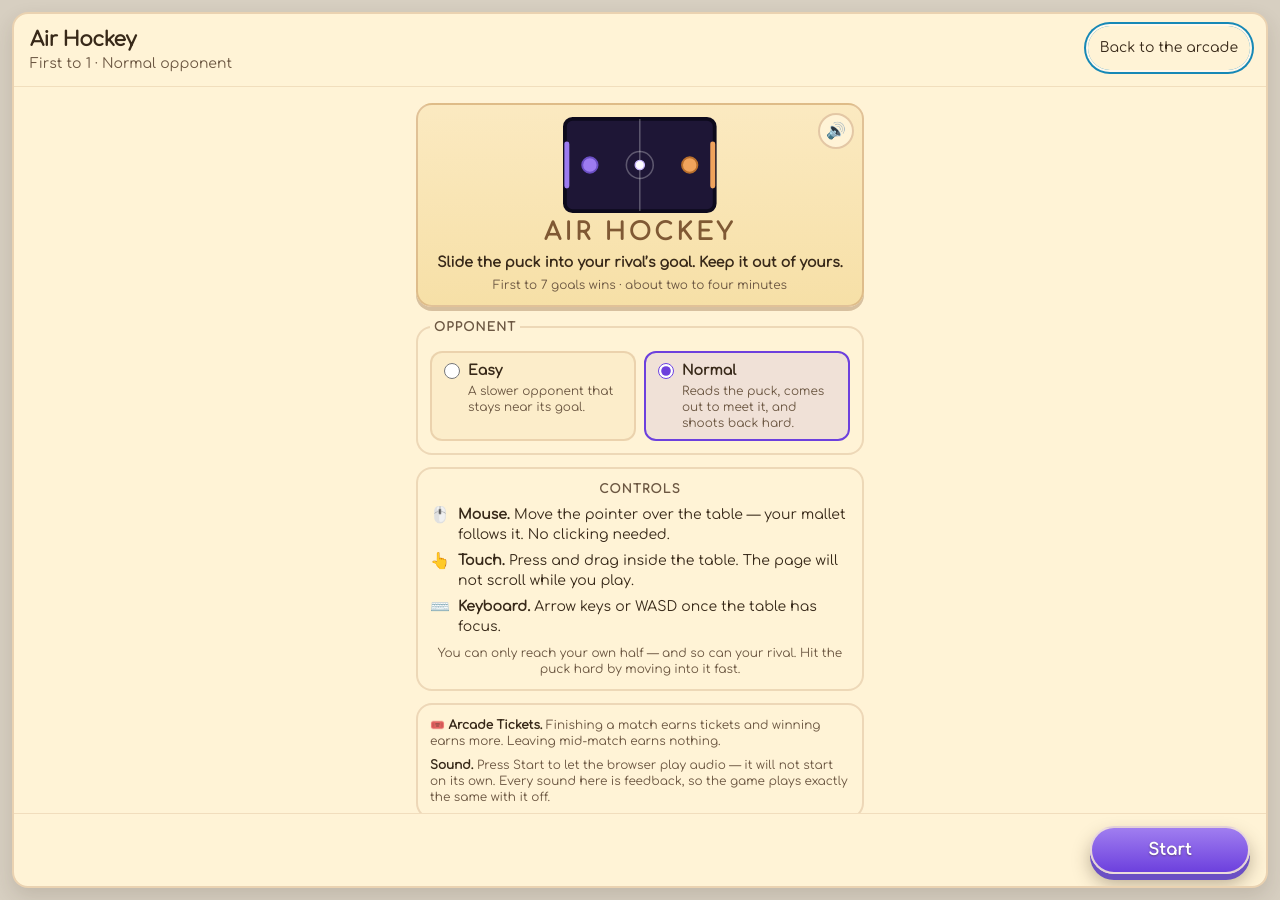
Test case: before the match › lets the difficulty be changed before starting
This screenshot has width=1280, height=900.
Click the radio button labelled "Easy A slower opponent that stays near its goal.". click: (452, 371)
box: [444,363,460,379]
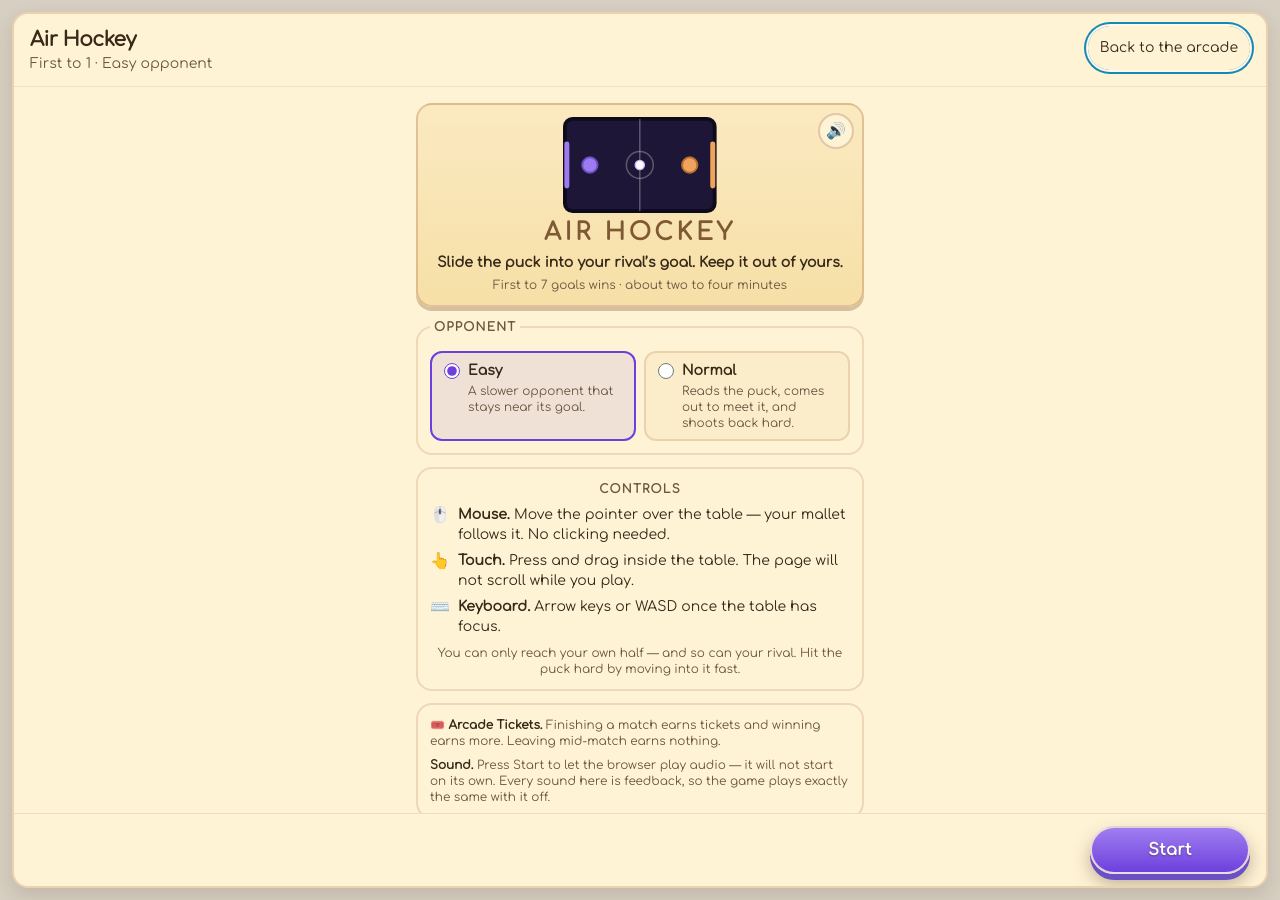
expect the radio button labelled "Easy A slower opponent that stays near its goal." is checked: met, box [444,363,460,379]
expect the text "First to 1 · Easy opponent" is shown: met, box [30,54,212,74]
